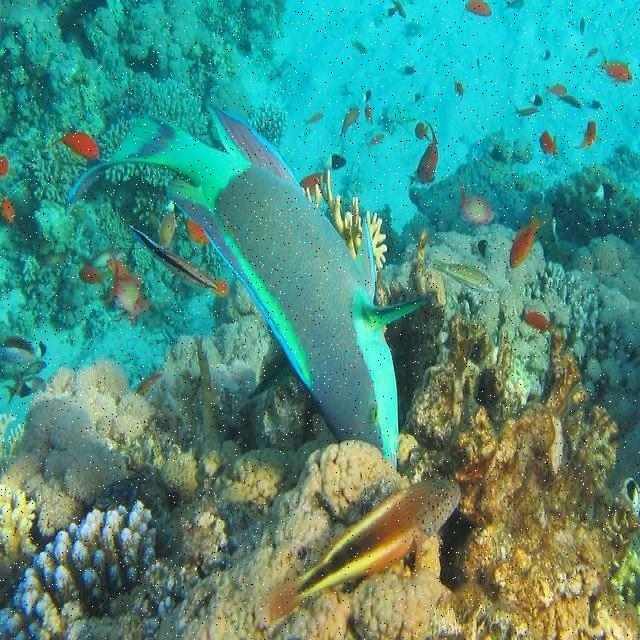fish: (67, 103, 434, 471), (270, 477, 462, 626), (132, 223, 219, 289), (510, 208, 546, 269), (434, 261, 495, 292), (44, 130, 99, 158), (459, 185, 492, 225), (417, 125, 439, 185), (595, 55, 631, 82), (1, 336, 33, 362), (156, 207, 176, 247), (573, 120, 597, 152), (338, 107, 359, 141), (540, 126, 558, 161), (78, 264, 106, 284), (526, 313, 550, 328)
reefs: (99, 73, 448, 639), (0, 286, 277, 541), (3, 507, 159, 639)
